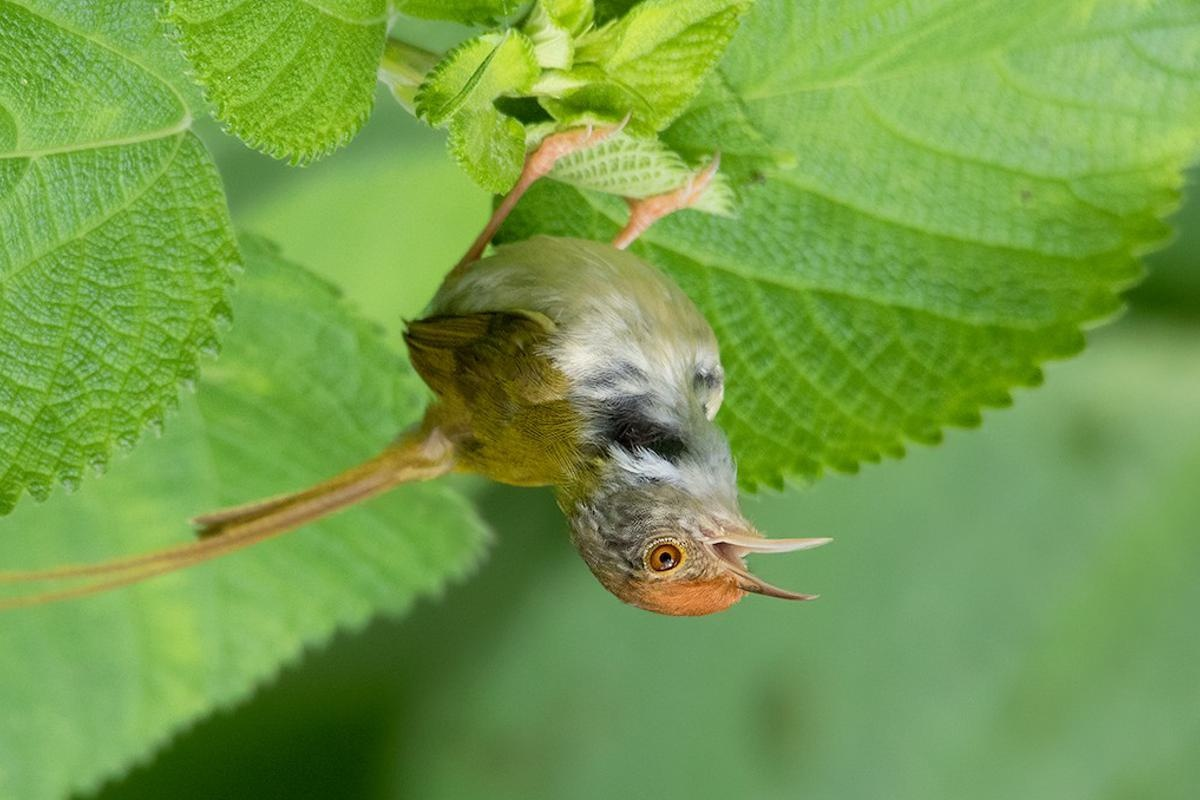tailorbird: (155, 142, 830, 650)
